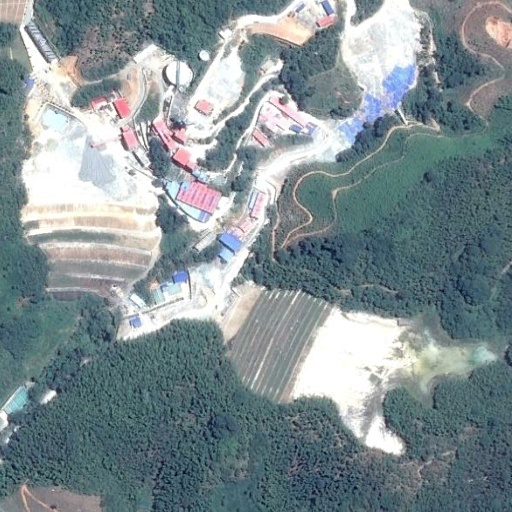tp: (224, 284, 500, 460), (19, 55, 158, 299)
